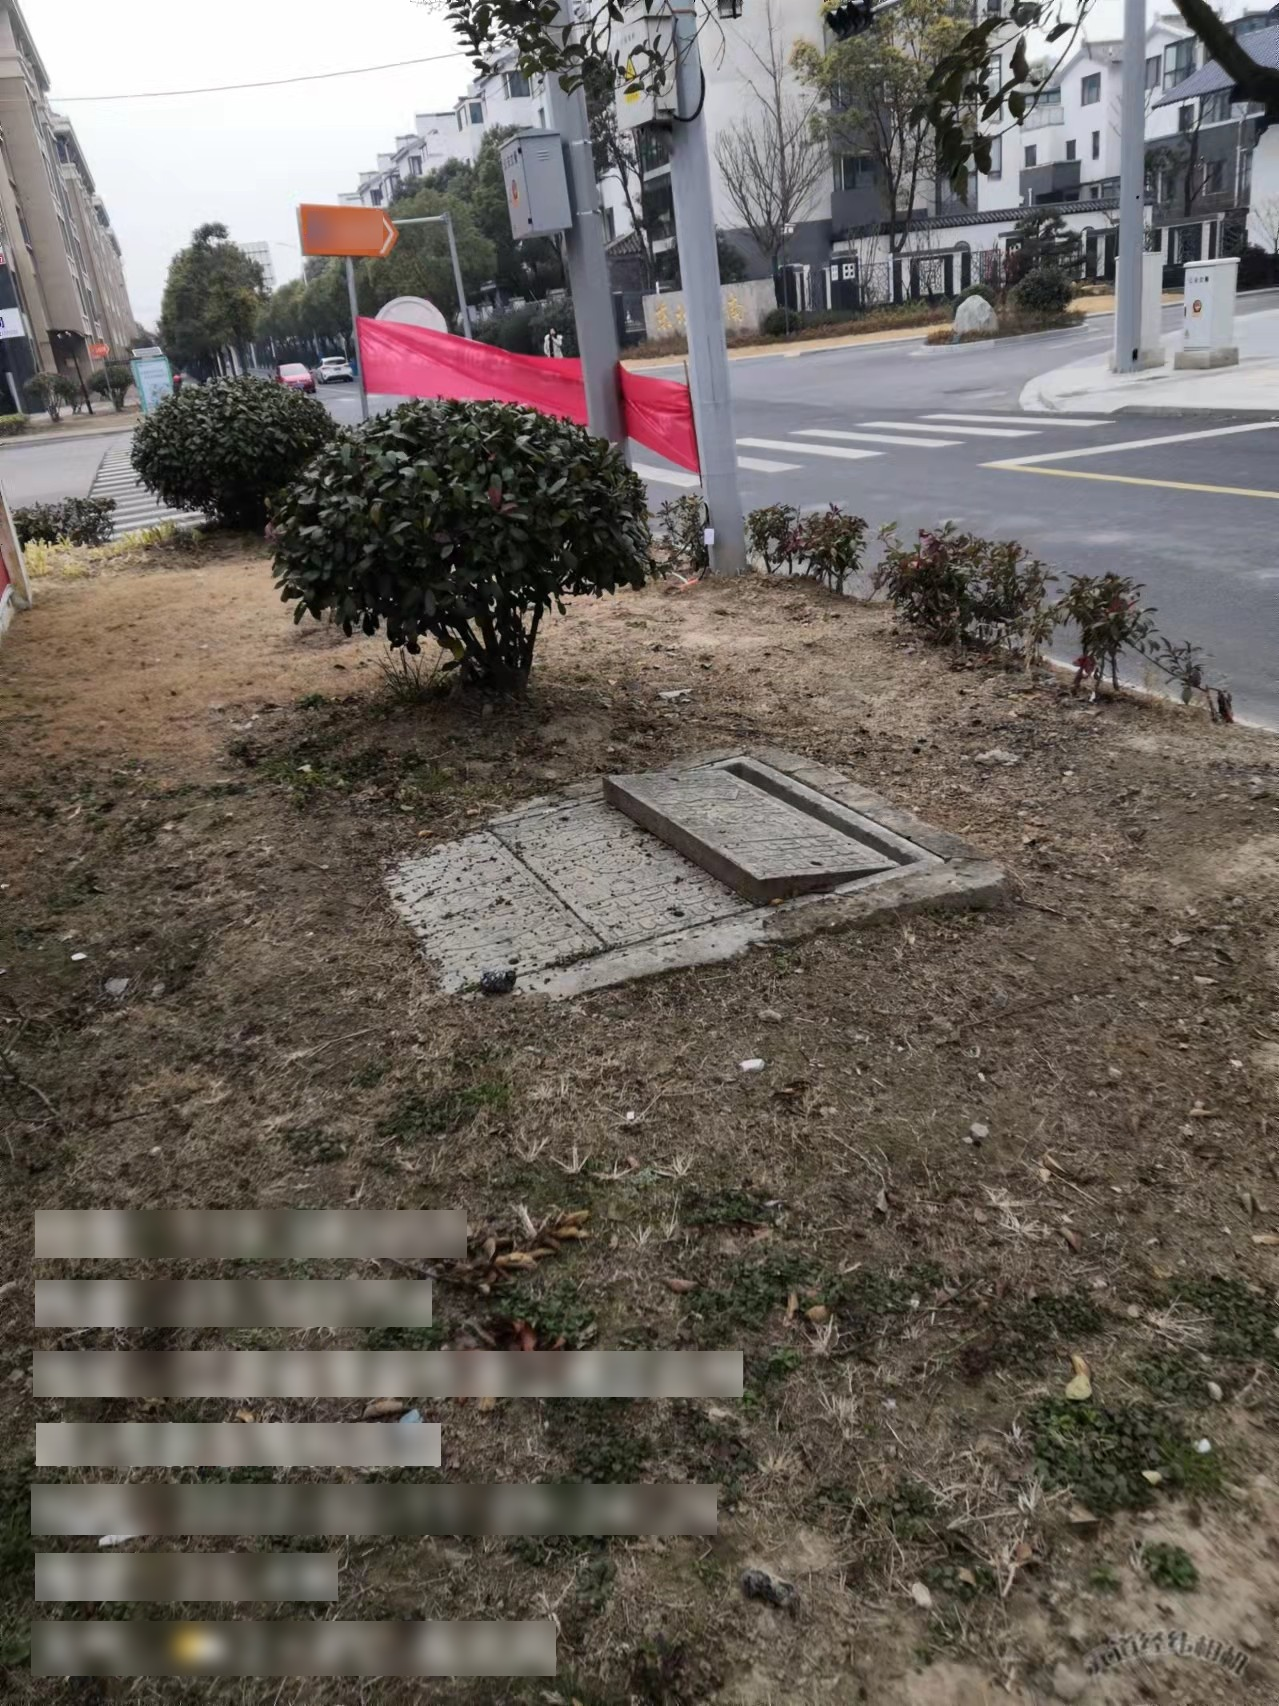uncovered: (386, 758, 947, 1003)
